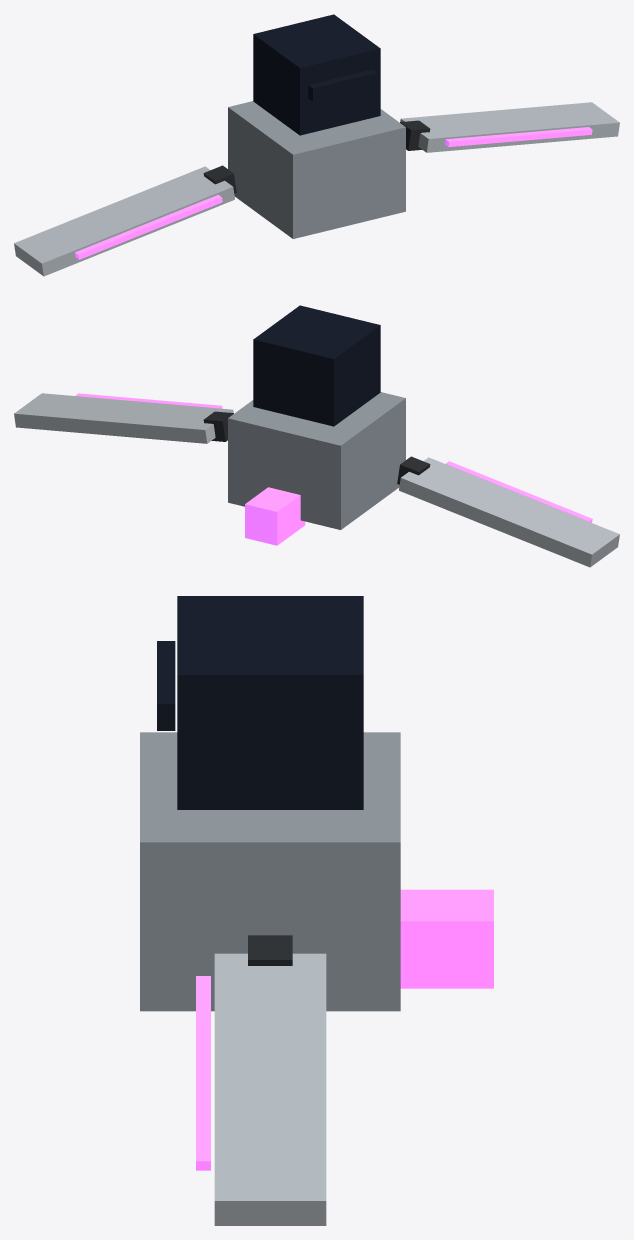
Rendered from winged_drone.glb.
The picture shows the model from 3 angles, top to bottom: view 1: azimuth 30°, elevation 25°; view 2: azimuth 150°, elevation 25°; view 3: azimuth 270°, elevation 25°; orthographic projection. The views are drawn at different scales.
Size of the model in its own units: 3.59 by 1 by 0.95.
